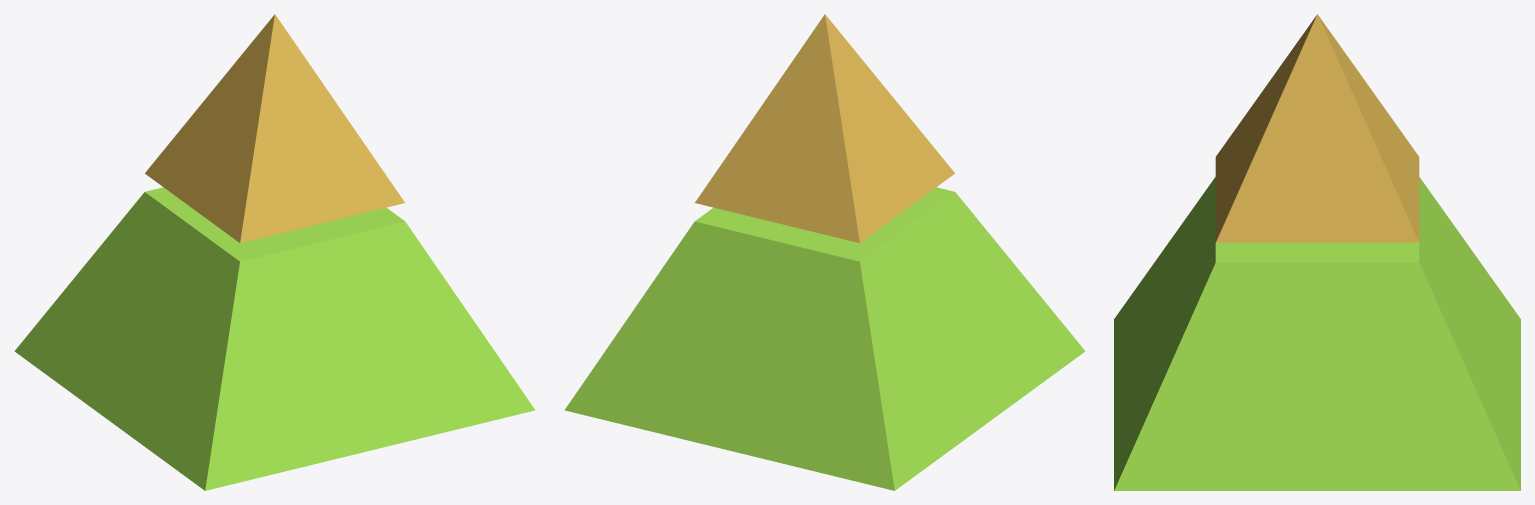
File: Illuminati.fbx
The picture shows the model from 3 angles, left to right: view 1: azimuth 30°, elevation 25°; view 2: azimuth 150°, elevation 25°; view 3: azimuth 270°, elevation 25°; orthographic projection. The views are drawn at different scales.
Parts seen in each view (by area): view 1: Cone, Cone.001; view 2: Cone, Cone.001; view 3: Cone, Cone.001.
Part boxes in pixels (x1,y1,x2,y2): Cone: (14,187,534,490); Cone.001: (145,14,404,243); Cone: (565,187,1085,490); Cone.001: (695,14,954,243); Cone: (1114,177,1520,490); Cone.001: (1215,14,1419,242).
Size of the model in its own units: 574 by 609 by 574.
